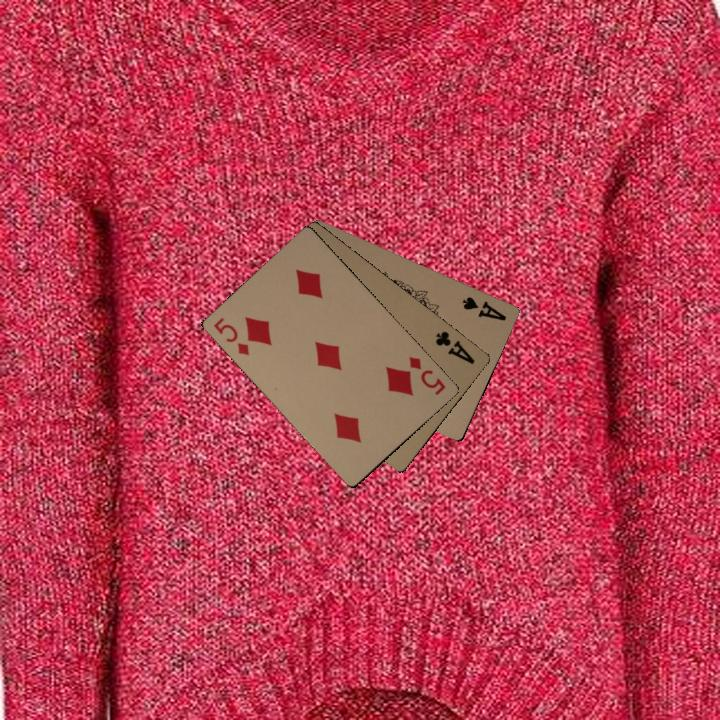5d: (405, 353, 449, 398), (210, 313, 252, 358)
Ac: (431, 327, 477, 367)
As: (458, 292, 509, 323)
